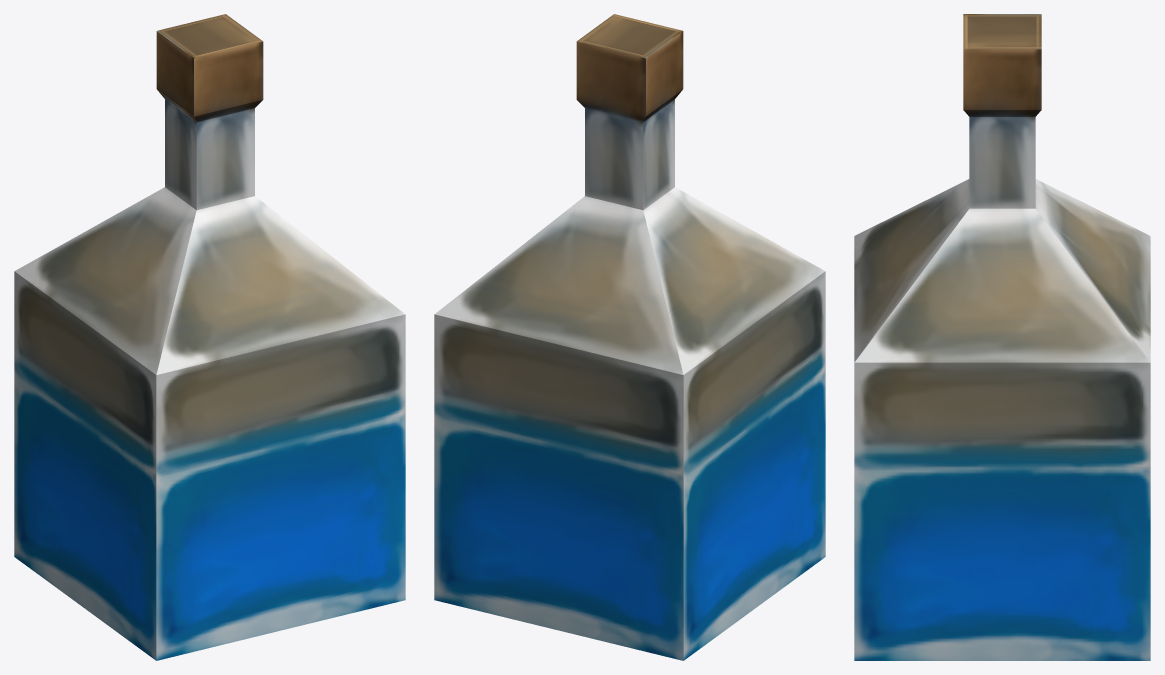
File: JiuPing02.FBX
The picture shows the model from 3 angles, left to right: view 1: azimuth 30°, elevation 25°; view 2: azimuth 150°, elevation 25°; view 3: azimuth 270°, elevation 25°; orthographic projection. The views are drawn at different scales.
Visible parts, largest first — view 1: JiuPing02; view 2: JiuPing02; view 3: JiuPing02.
Part boxes in pixels (x1,y1,x2,y2): JiuPing02: [14, 14, 405, 660]; JiuPing02: [434, 14, 825, 660]; JiuPing02: [854, 14, 1150, 660].
Bounding box in the file's own units: 21.02 × 43.76 × 20.76.
